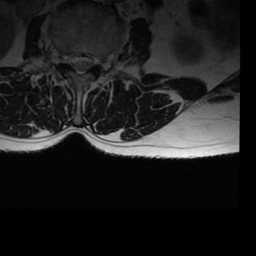CCS_normal: (76, 43, 85, 85)
LFS_normal: (95, 45, 105, 77)
LLS_normal: (85, 45, 94, 78)
RFS_normal: (58, 42, 67, 72)
RLS_normal: (67, 44, 76, 76)
